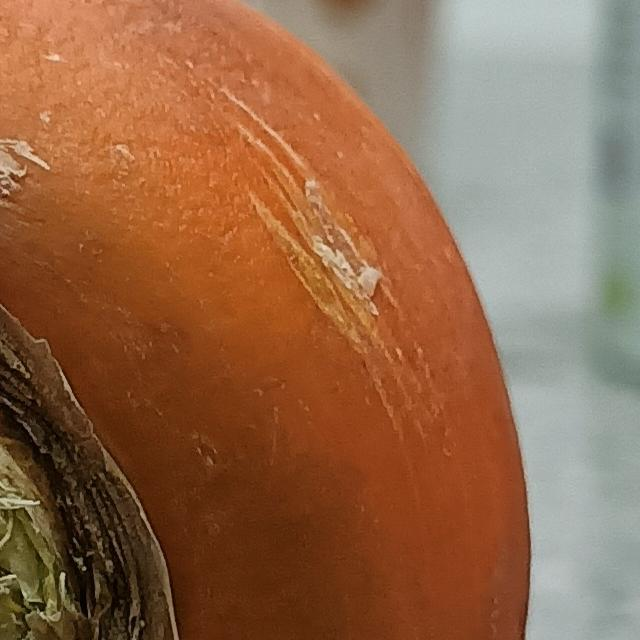carrot: (1, 1, 545, 640)
